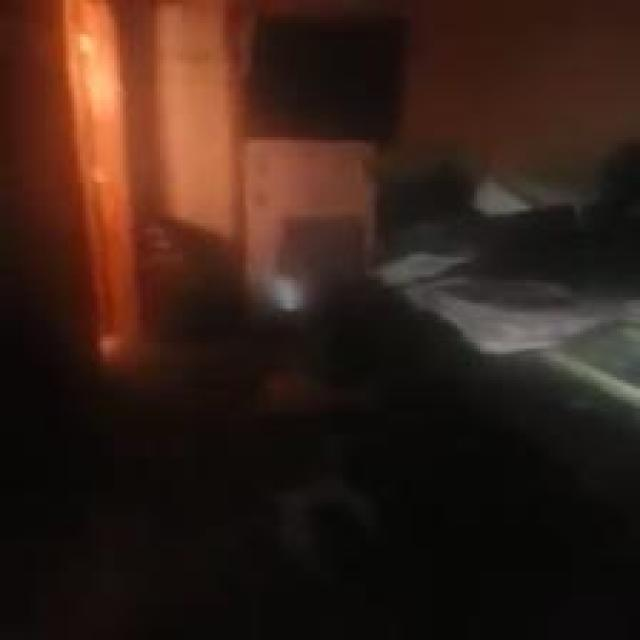other: (54, 26, 142, 344)
